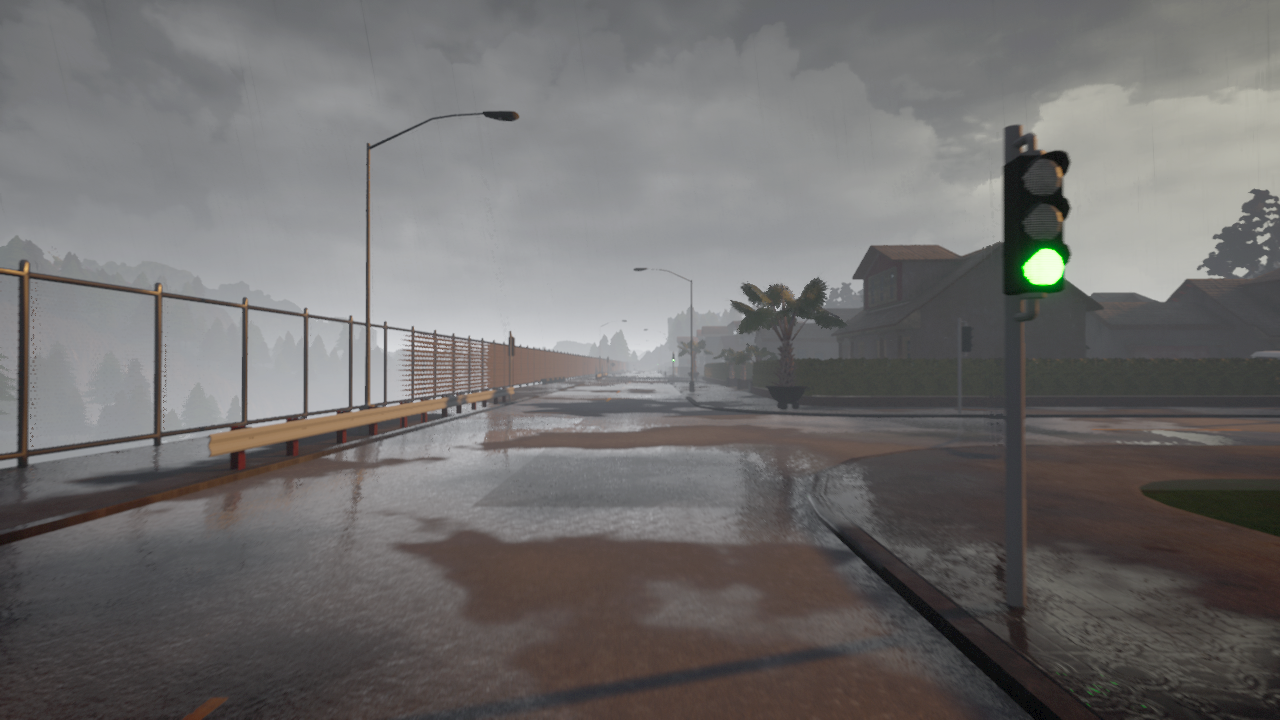green: (1007, 141, 1072, 296)
